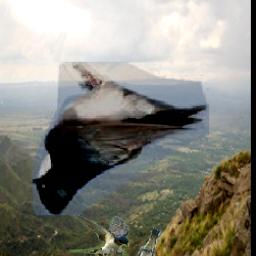Swallow: (32, 63, 208, 216), (68, 213, 129, 256), (138, 228, 162, 256)
